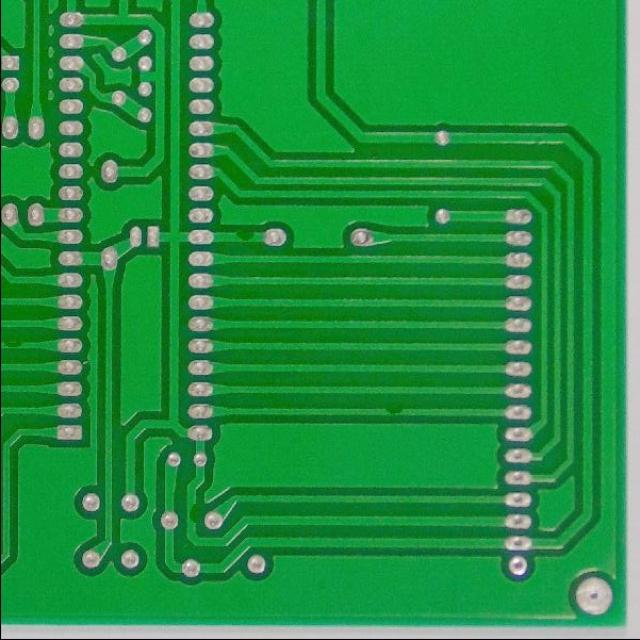mouse_bite: (377, 400, 408, 422), (228, 227, 258, 248), (1, 336, 26, 356)
